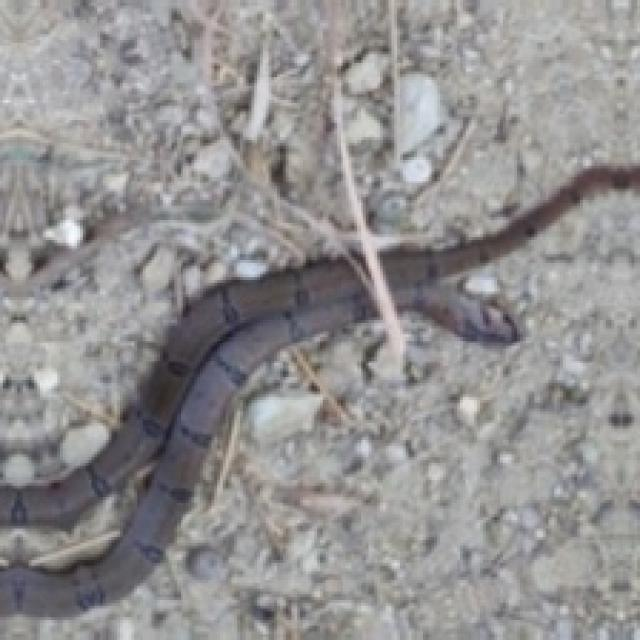northern short-headed snake: (0, 260, 371, 614), (383, 166, 637, 340)
